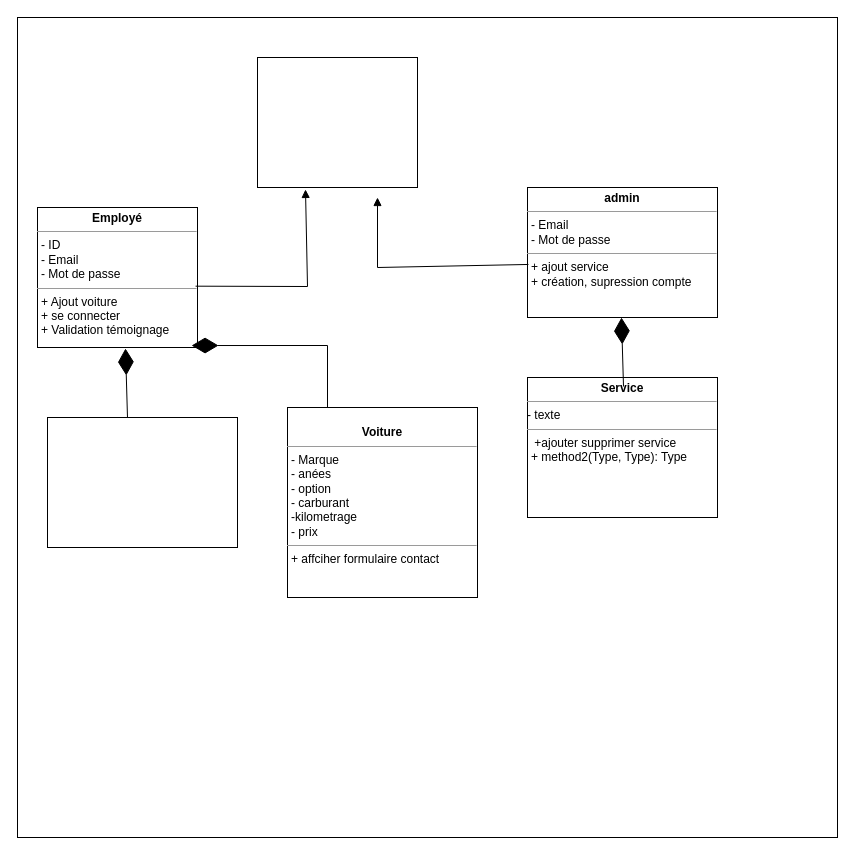
Image size: 855x855. Some labels were removed from this diagram. The shapes that lost their labels are listed below. From the top down, each one's centre as x and y in pixels, then its label:
pixel 337 122: Utilisateur - ID - Email - Mot de passe + Vérification connexion
pixel 142 482: Contact - Nom - Prenom - mail - téléphone - messsage + contacer garage
